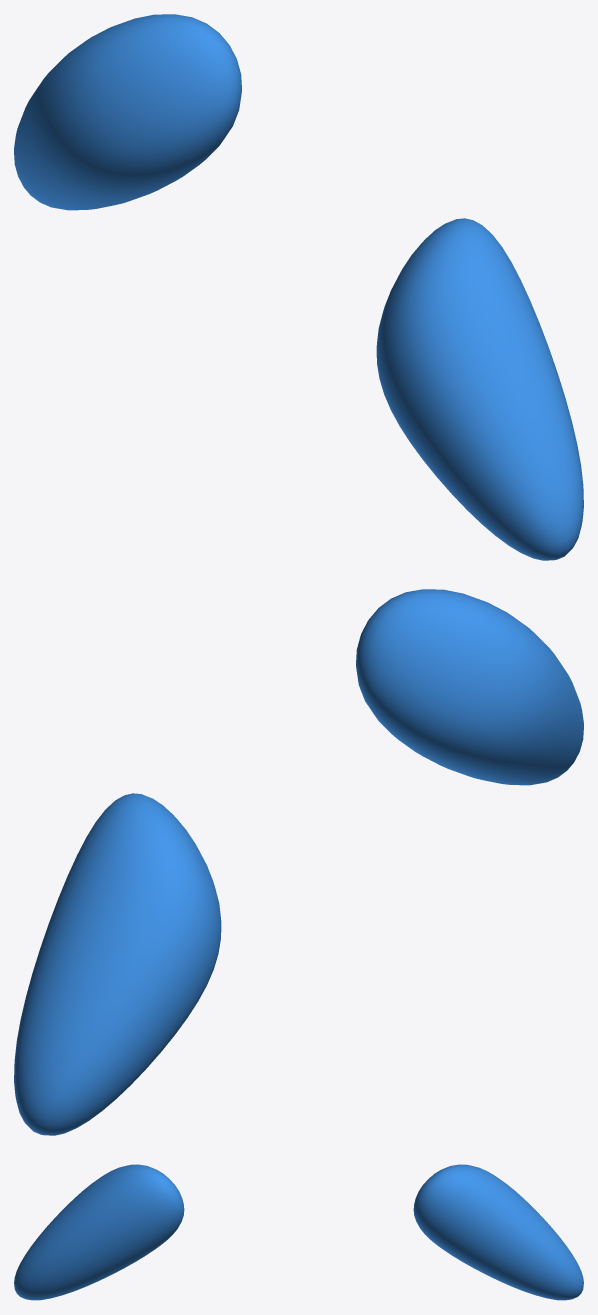
File: wings.glb
The picture shows the model from 3 angles, top to bottom: view 1: azimuth 30°, elevation 25°; view 2: azimuth 150°, elevation 25°; view 3: azimuth 270°, elevation 25°; orthographic projection. The views are drawn at different scales.
Parts seen in each view (by area): view 1: wing1, wing2; view 2: wing2, wing1; view 3: wing2, wing1.
Part boxes in pixels (x1,y1,x2,y2): wing1: (376, 218, 583, 560); wing2: (14, 14, 241, 210); wing2: (14, 793, 221, 1135); wing1: (356, 589, 583, 785); wing2: (413, 1164, 583, 1300); wing1: (14, 1164, 184, 1300).
Bounding box in the file's own units: 0.0509 × 0.0823 × 0.3145.
